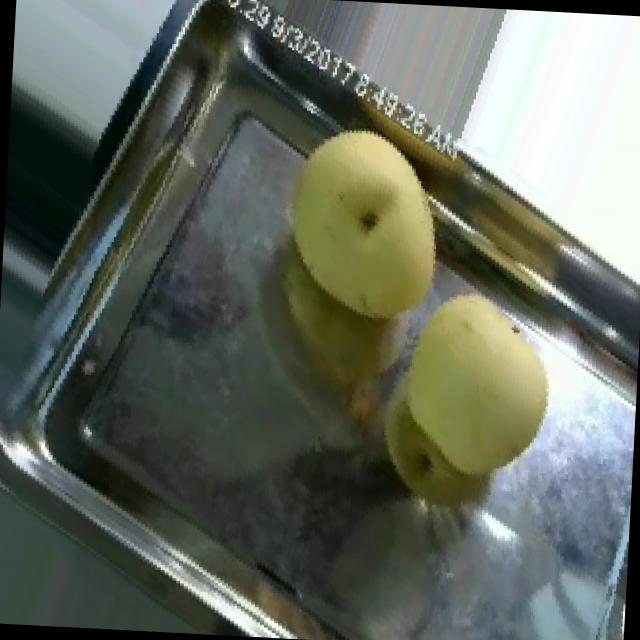Fruit: (342, 262, 582, 517), (248, 98, 478, 355)
